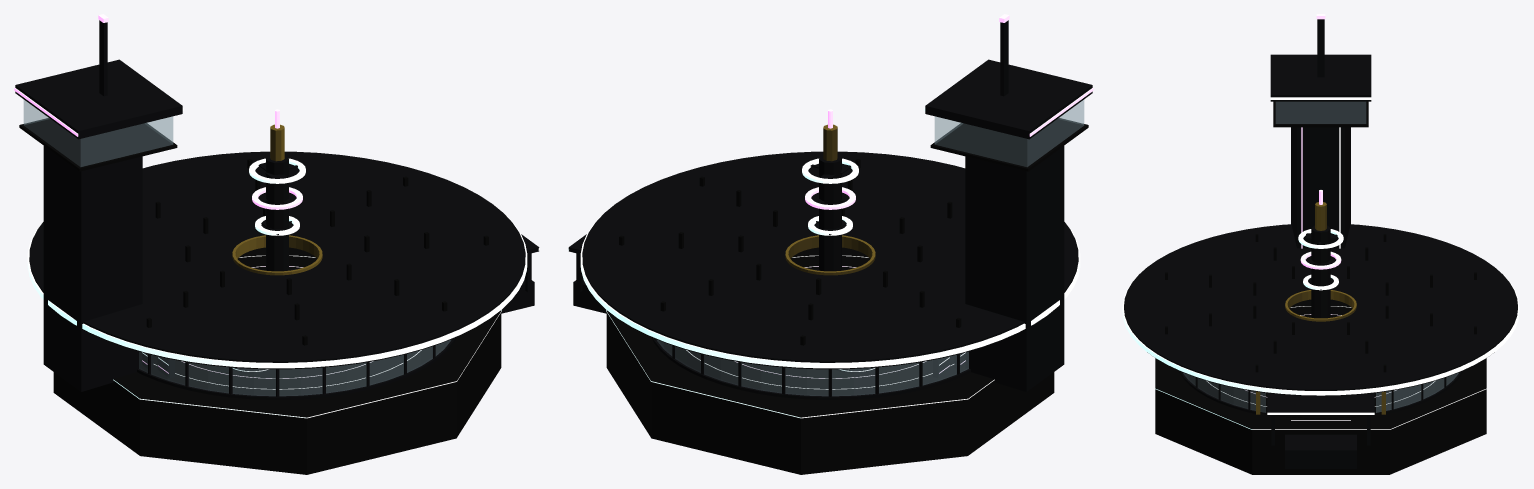
Rendered from shaddai_race_hq_v01.glb.
3 renders of one model, left to right at view 1: azimuth 30°, elevation 25°; view 2: azimuth 150°, elevation 25°; view 3: azimuth 270°, elevation 25°, orthographic. The views are drawn at different scales.
Visible parts, largest first — view 1: race_hq_shell, race_hq_floor, race_hq_beacon; view 2: race_hq_shell, race_hq_floor, race_hq_beacon; view 3: race_hq_shell, race_hq_floor, race_hq_beacon.
Part boxes in pixels (x1,y1,x2,y2): race_hq_shell: [14, 14, 539, 474]; race_hq_floor: [142, 247, 448, 395]; race_hq_beacon: [249, 109, 305, 271]; race_hq_shell: [568, 14, 1093, 474]; race_hq_floor: [659, 247, 965, 395]; race_hq_beacon: [802, 109, 858, 271]; race_hq_shell: [1122, 14, 1519, 474]; race_hq_floor: [1185, 301, 1456, 418]; race_hq_beacon: [1298, 190, 1343, 318].
Size of the model in its own units: 71.55 by 59.6 by 66.5.
